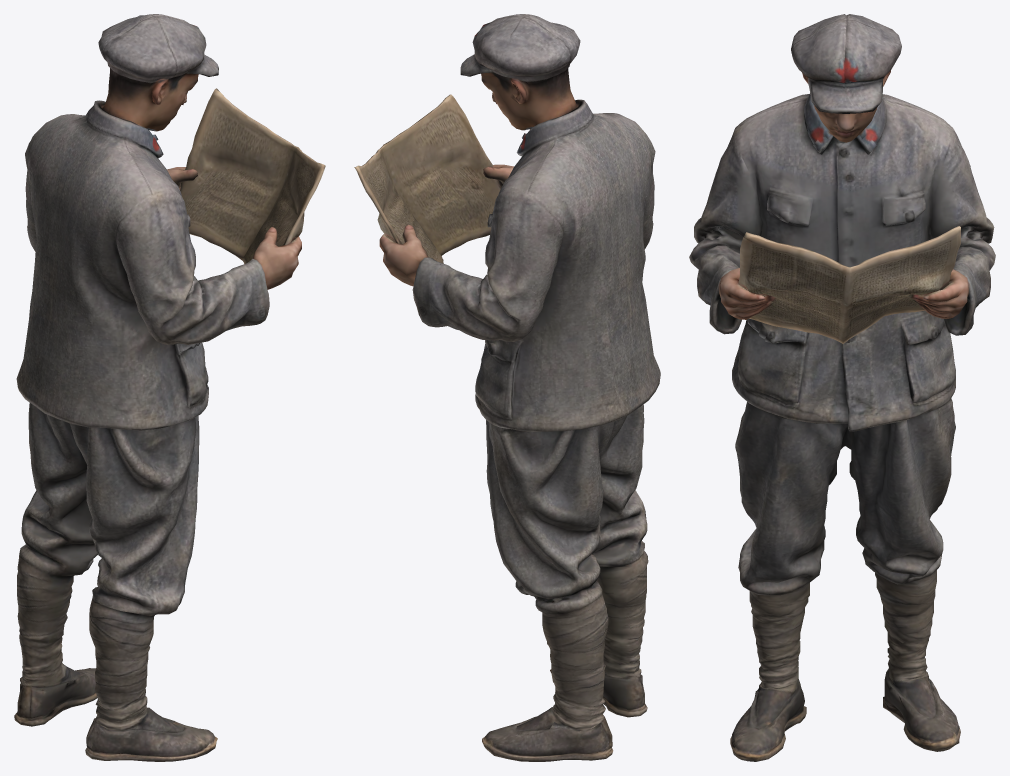
The model's file is newspaper-reader.glb.
3 views of the same model, side by side, from view 1: azimuth 30°, elevation 25°; view 2: azimuth 150°, elevation 25°; view 3: azimuth 270°, elevation 25° (orthographic). The views are drawn at different scales.
Visible parts, largest first — view 1: Supplied newspaper-reader; view 2: Supplied newspaper-reader; view 3: Supplied newspaper-reader.
Part boxes in pixels (bbox=[...]): Supplied newspaper-reader: bbox=[14, 14, 325, 761]; Supplied newspaper-reader: bbox=[354, 14, 660, 761]; Supplied newspaper-reader: bbox=[689, 14, 995, 761].
Bounding box in the file's own units: 1 × 2.57 × 0.9698.
Materials: 1 (1 with a texture image).
